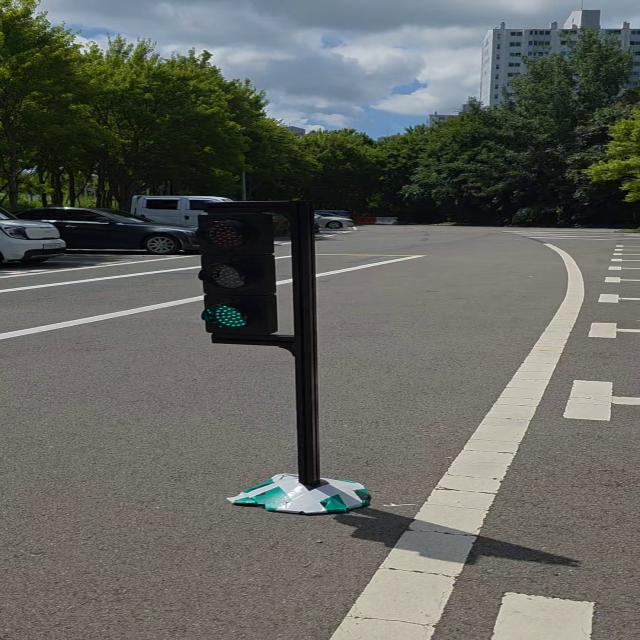green: (192, 206, 278, 344)
